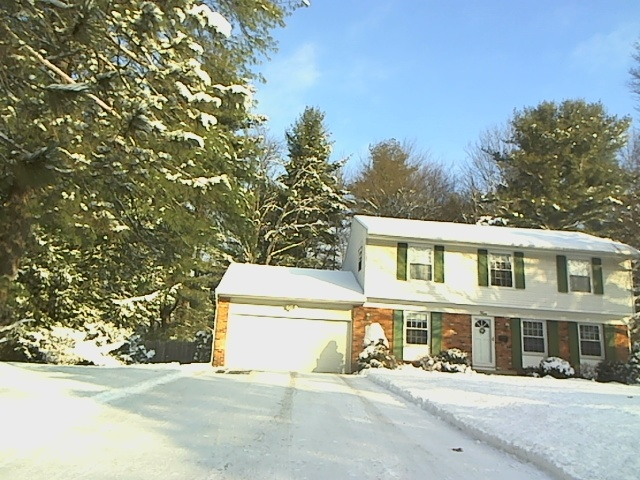Unploughed: (104, 367, 462, 479), (473, 318, 499, 400)
